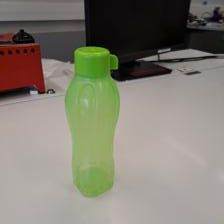bottle: (64, 44, 120, 196)
